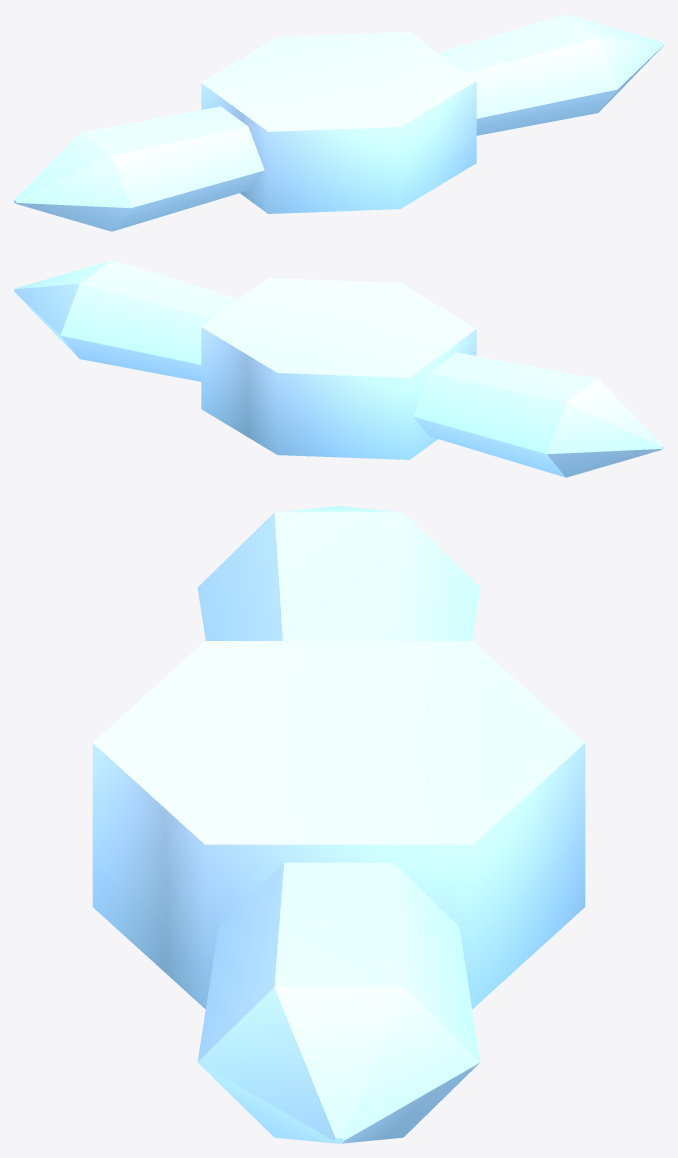
Rendered from steel_guard_053.glb.
3 renders of one model, top to bottom at view 1: azimuth 30°, elevation 25°; view 2: azimuth 150°, elevation 25°; view 3: azimuth 270°, elevation 25°, orthographic. The views are drawn at different scales.
Visible parts, largest first — view 1: steel_guard_053; view 2: steel_guard_053; view 3: steel_guard_053.
Boxes of the visible parts, x1,y1,x2,y2 form: steel_guard_053: [14, 14, 663, 231]; steel_guard_053: [14, 260, 663, 477]; steel_guard_053: [92, 506, 585, 1143].
Bounding box in the file's own units: 9.73 × 1.18 × 3.21.
1 material, 1 textured.
